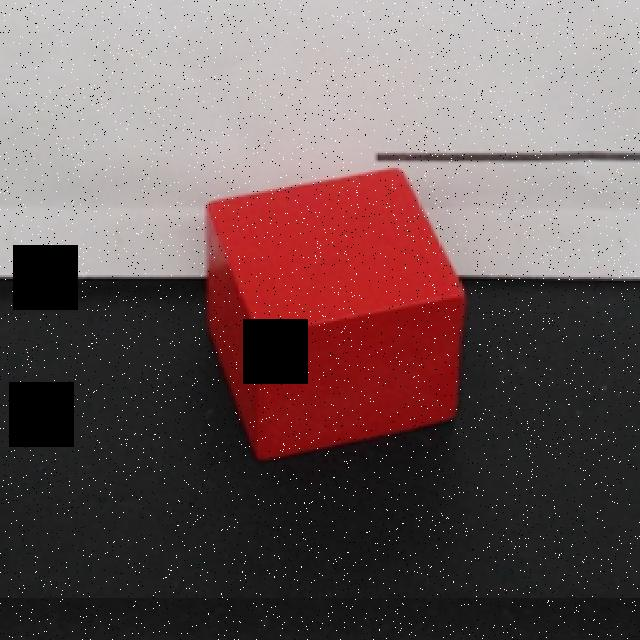red cube: (204, 168, 467, 464)
